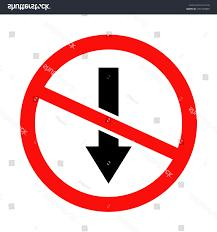Straight Prohibitor No Entry: (9, 27, 204, 214)
